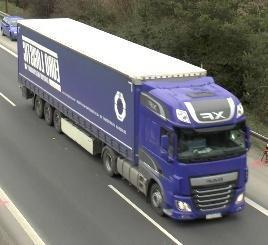car: (0, 15, 24, 40)
truck: (17, 19, 251, 222)
